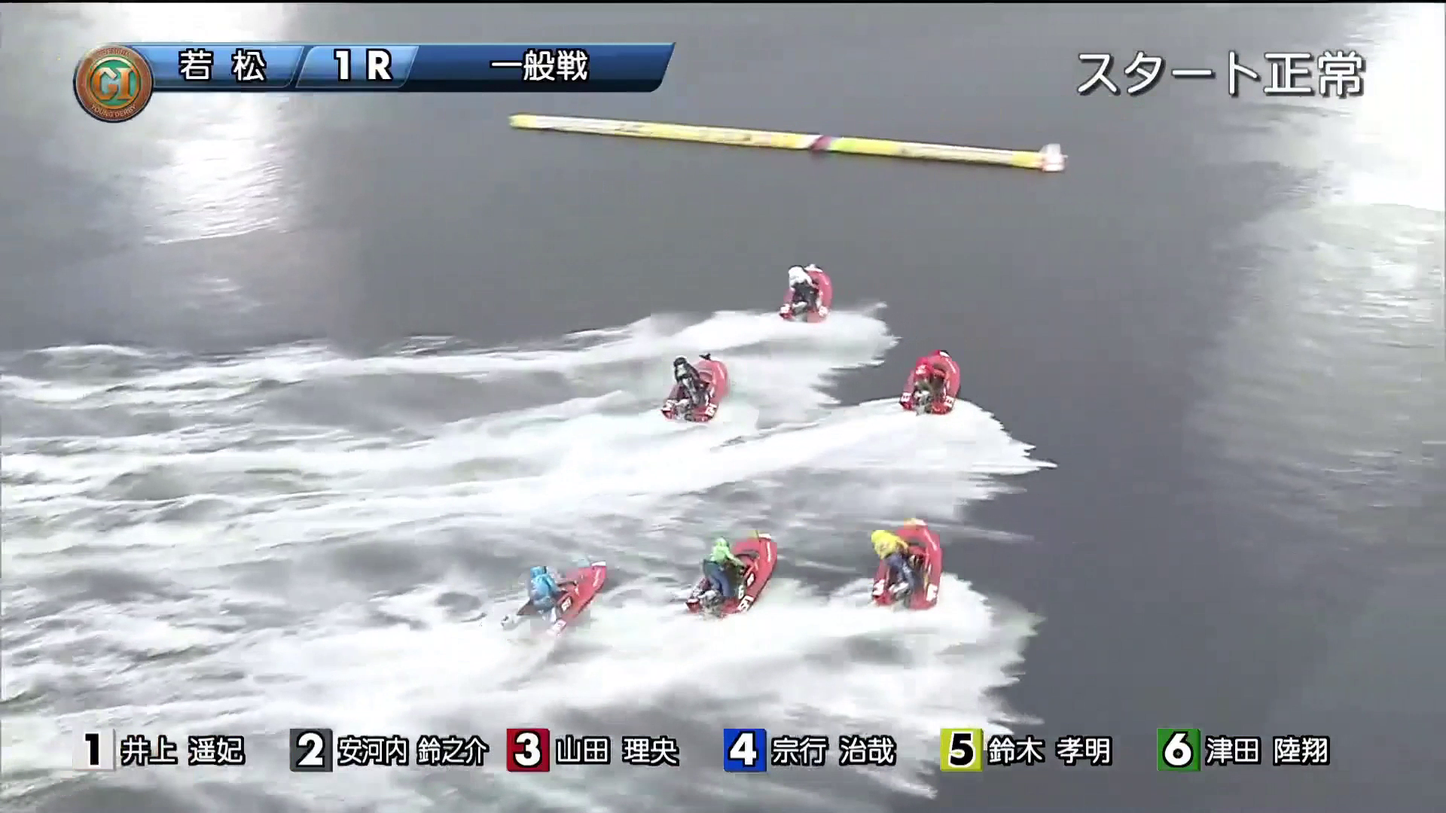１号艇: (757, 261, 839, 315)
２号艇: (637, 355, 765, 415)
３号艇: (869, 366, 974, 413)
４号艇: (646, 540, 779, 606)
５号艇: (457, 576, 580, 631)
６号艇: (854, 522, 954, 579)
